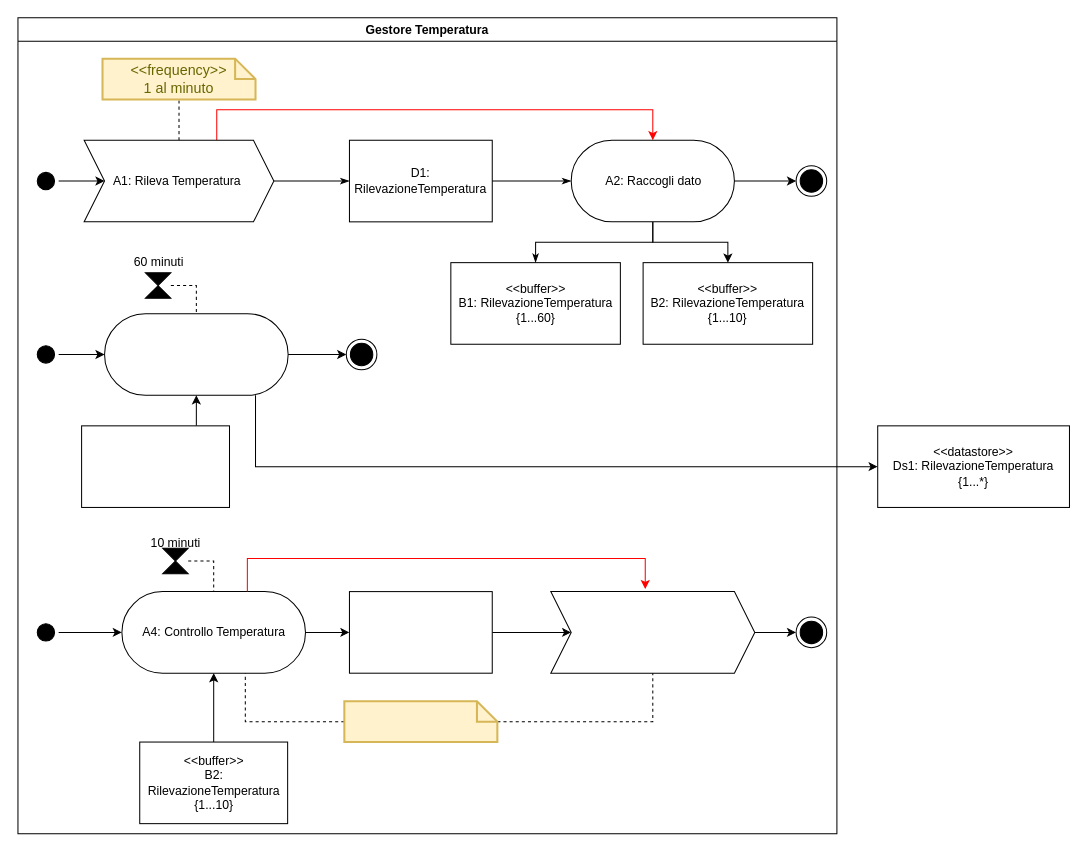
Image size: 1087x852. Some labels were removed from this diagram. The centre of each missing label's shape, as x and y in pixels:
"<<buffer>> B1: RilevazioneTemperatura {1...60 }" goes at (155,466).
"<<delay>> 0,1 secondi" goes at (420,721).
"A3: Invio a storico" goes at (196,354).
"A5: Comunica Anomalia" goes at (652,632).
"D2: Anomalia" goes at (420,632).
